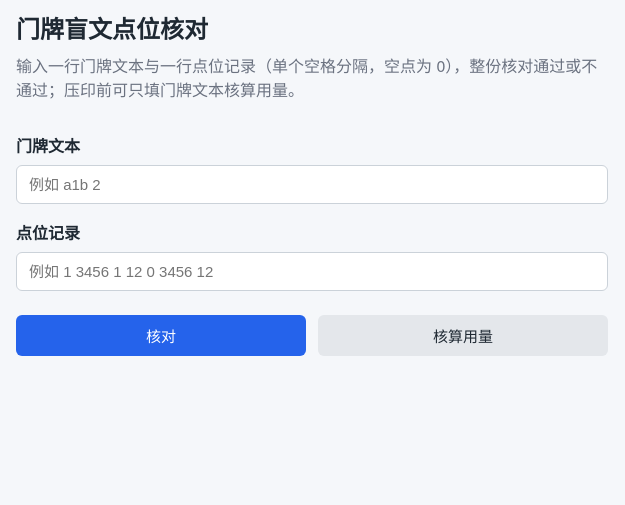
Test: App 核算用量 › 核算期间禁用核算按钮但不阻止编辑点位记录
Type "abc" into the field with test id "text-input" at [312, 184], box [16,165,608,204]
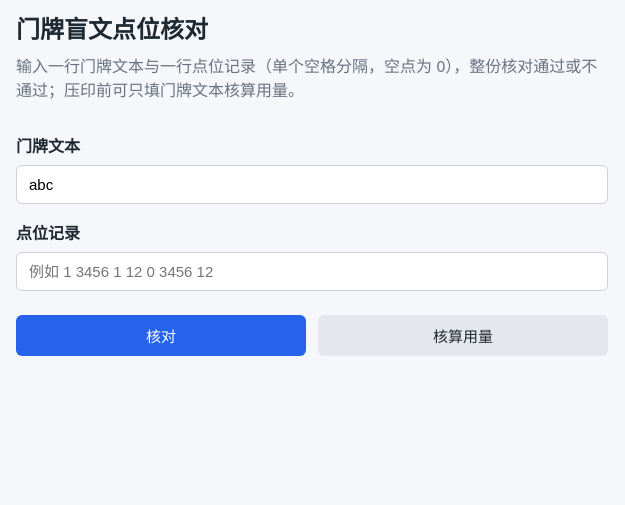
Click the button with test id "usage-submit" at [463, 336], box [318,315,608,356]
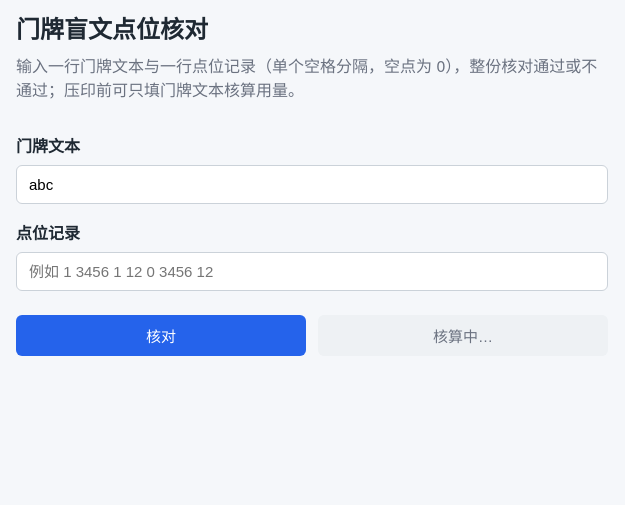
Result: the button with test id "usage-submit" is disabled at [318,315,608,356]
Type "1 12 14" into the field with test id "cells-input" at [312, 272], box [16,252,608,291]
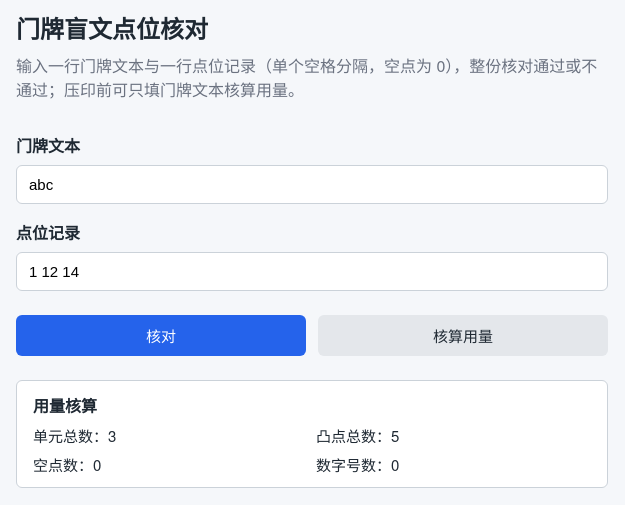
Result: the button with test id "usage-submit" is enabled at [318,315,608,356]
Result: the list item with test id "usage-cells" reads "单元总数：3" at [33,425,116,446]
